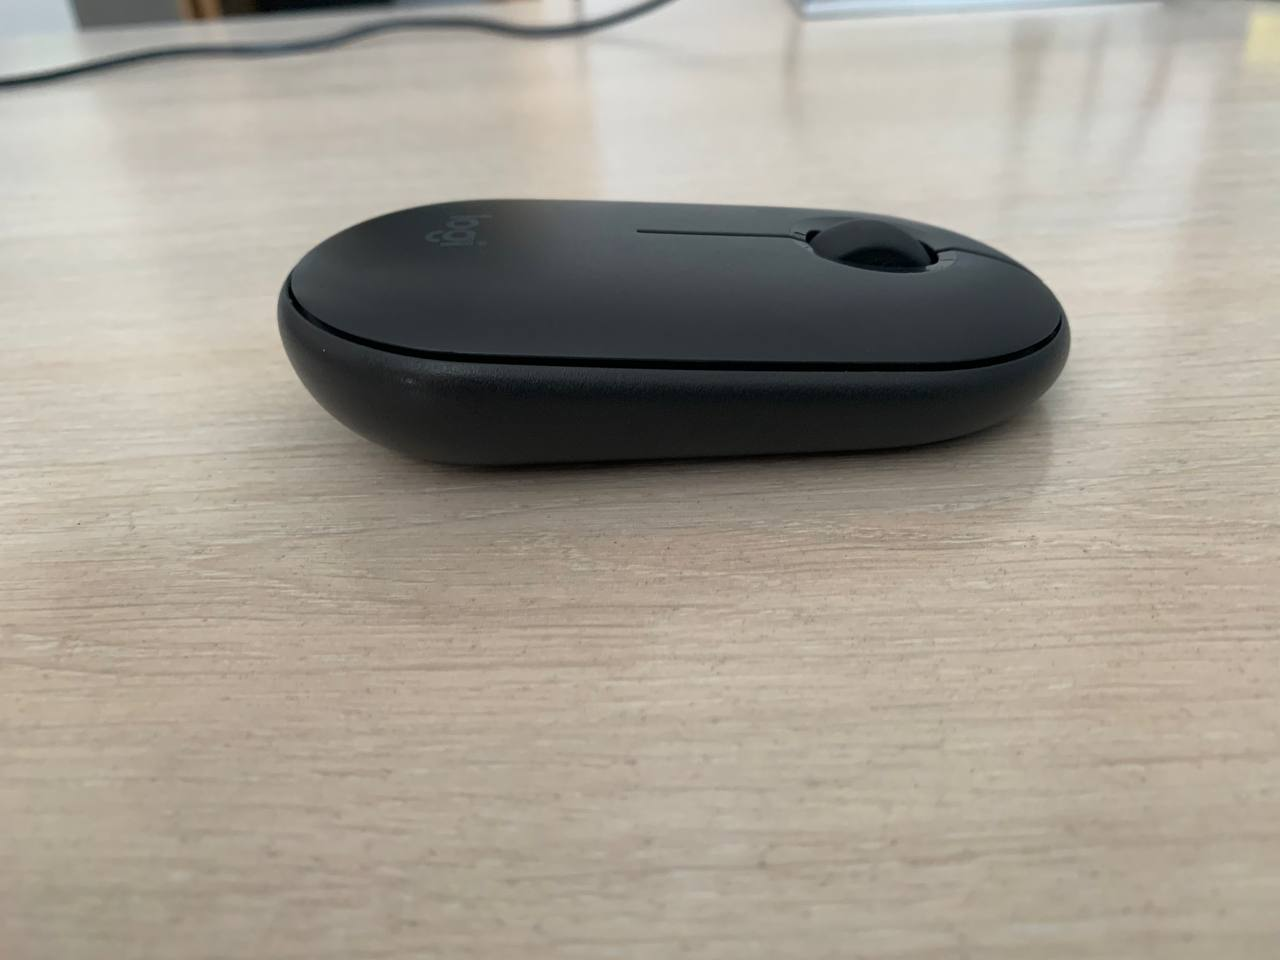mouse: (279, 200, 1069, 465)
